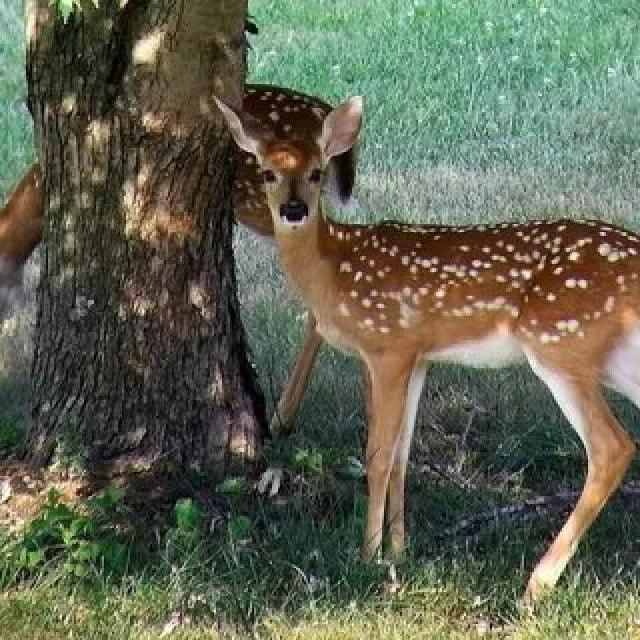deer: (195, 68, 640, 600)
